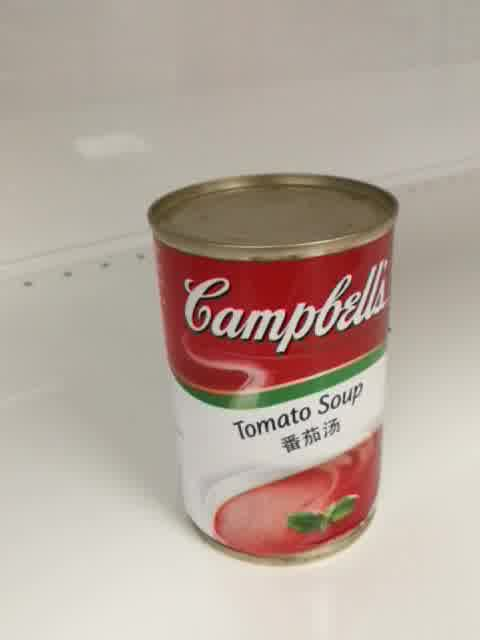tomatosoup: (143, 172, 401, 568)
